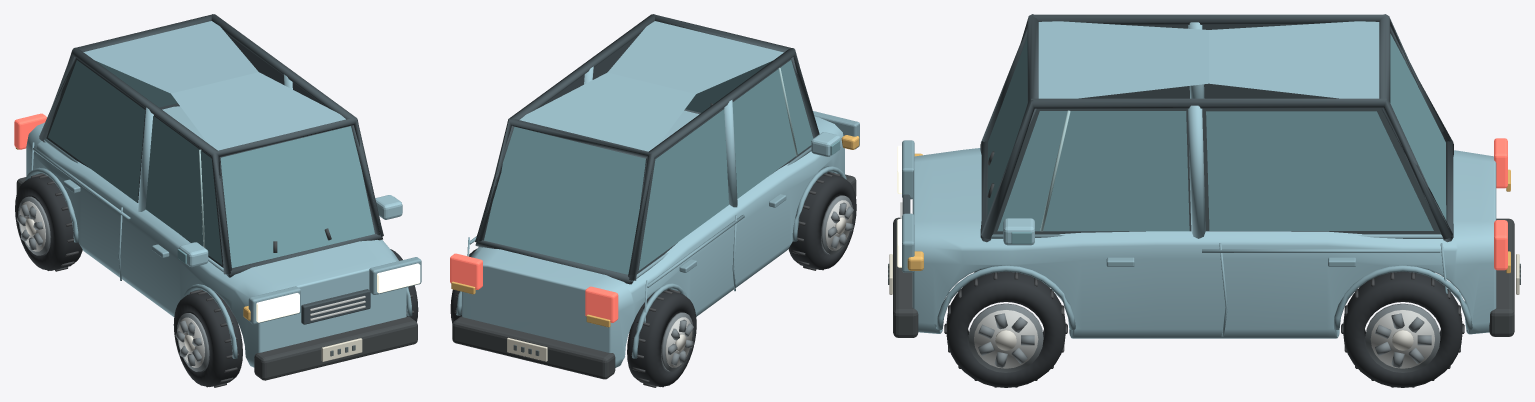
Rendered from car_07.fbx.
The picture shows the model from 3 angles, left to right: view 1: azimuth 30°, elevation 25°; view 2: azimuth 150°, elevation 25°; view 3: azimuth 270°, elevation 25°; orthographic projection. The views are drawn at different scales.
Parts seen in each view (by area): view 1: Body_SculptedShell, FrontWindscreen, Roof_CrownedPanel, SideWindow_L_1, SideWindow_L_0, FrontBumper, Tyre_FL, Tyre_RL, WindowOutline_L, WindowOutline_R, FrontWindscreenBorder, RearWindowBorder (+22 smaller); view 2: Body_SculptedShell, RearWindow, Roof_CrownedPanel, SideWindow_L_1, SideWindow_L_0, RearBumper, Tyre_RL, Tyre_FL, WindowOutline_L, RearWindowBorder, WindowOutline_R, FrontWindscreenBorder (+18 smaller); view 3: Body_SculptedShell, SideWindow_R_1, Roof_CrownedPanel, SideWindow_R_0, Tyre_FR, Tyre_RR, WindowOutline_R, WindowOutline_L, RearWindow, WindowBacking_R, FrontWindscreen, RearWindowBorder (+20 smaller).
Part boxes in pixels (x1,y1,x2,y2): Body_SculptedShell: (26, 106, 406, 367); FrontWindscreen: (220, 126, 374, 267); Roof_CrownedPanel: (83, 21, 345, 150); SideWindow_L_1: (48, 60, 145, 202); SideWindow_L_0: (145, 116, 222, 265); FrontBumper: (254, 316, 417, 380); Tyre_FL: (173, 291, 242, 386); Tyre_RL: (15, 174, 82, 270); WindowOutline_L: (42, 47, 231, 272); WindowOutline_R: (211, 14, 383, 236); FrontWindscreenBorder: (214, 117, 382, 277); RearWindowBorder: (39, 14, 215, 142); Body_SculptedShell: (462, 110, 844, 367); RearWindow: (484, 126, 645, 274); Roof_CrownedPanel: (519, 21, 783, 151); SideWindow_L_1: (638, 109, 728, 270); SideWindow_L_0: (732, 60, 813, 198); RearBumper: (452, 316, 615, 379); Tyre_RL: (627, 290, 696, 386); Tyre_FL: (788, 173, 856, 269); WindowOutline_L: (628, 48, 819, 275); RearWindowBorder: (475, 118, 652, 284); WindowOutline_R: (475, 14, 654, 242); FrontWindscreenBorder: (651, 14, 797, 114); Body_SculptedShell: (912, 148, 1496, 338); SideWindow_R_1: (1206, 111, 1433, 230); Roof_CrownedPanel: (1038, 21, 1379, 98); SideWindow_R_0: (997, 111, 1189, 231); Tyre_FR: (946, 271, 1065, 387); Tyre_RR: (1343, 271, 1462, 387); WindowOutline_R: (981, 98, 1452, 239); WindowOutline_L: (982, 14, 1450, 141); RearWindow: (1390, 33, 1446, 220); WindowBacking_R: (993, 108, 1440, 234); FrontWindscreen: (987, 37, 1027, 215); RearWindowBorder: (1379, 14, 1453, 242).
Bounding box in the file's own units: 249 × 239 × 500.
